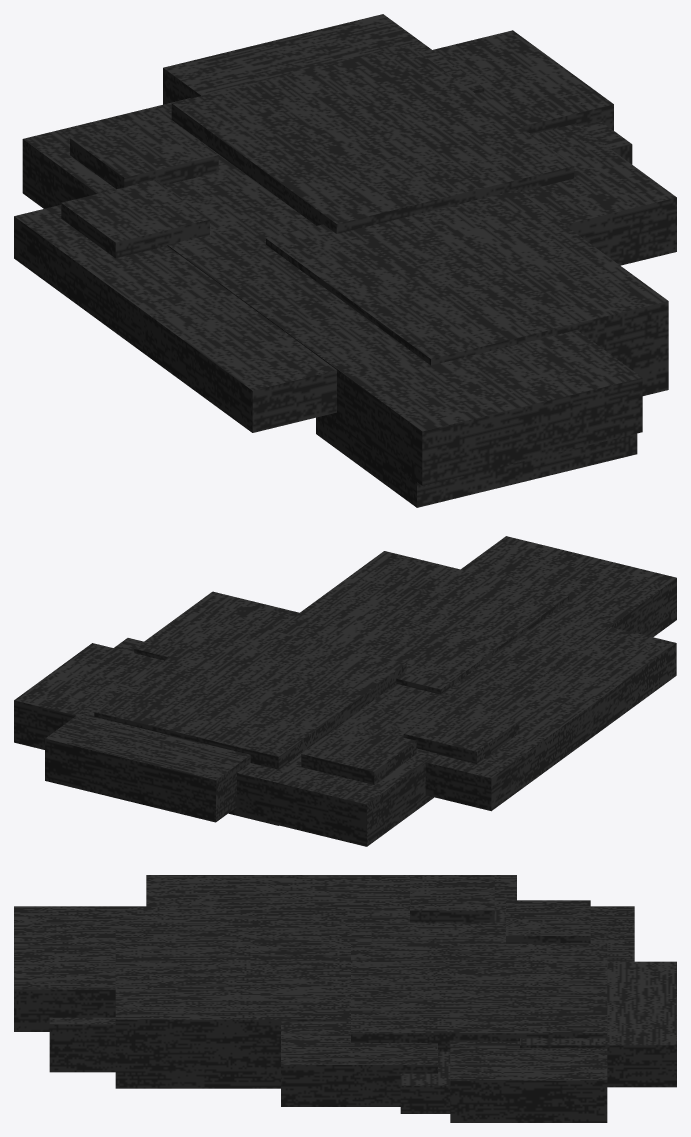
Rendered from plat_hor2.fbx.
3 renders of one model, top to bottom at view 1: azimuth 30°, elevation 25°; view 2: azimuth 150°, elevation 25°; view 3: azimuth 270°, elevation 25°, orthographic. The views are drawn at different scales.
Parts seen in each view (by area): view 1: Cube.004; view 2: Cube.004; view 3: Cube.004.
Boxes of the visible parts, x1,y1,x2,y2 form: Cube.004: (14, 14, 676, 507); Cube.004: (14, 536, 676, 846); Cube.004: (14, 875, 676, 1122).
Bounding box in the file's own units: 1543 × 324 × 2047.
